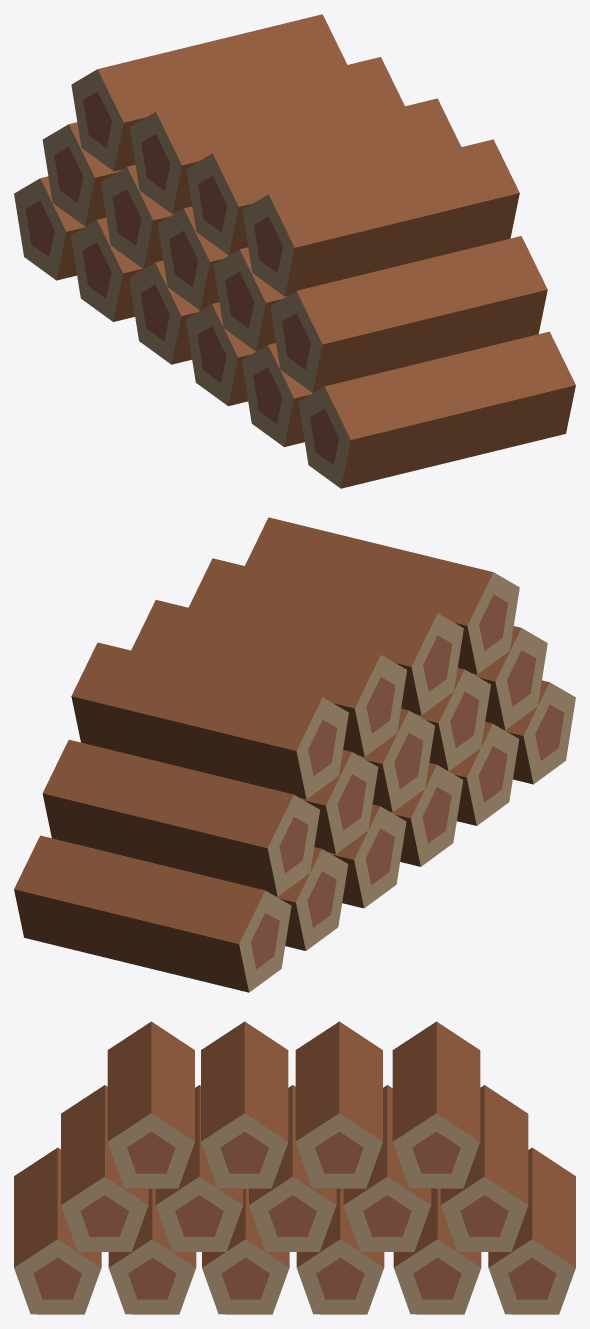
File: TB_Prop_LumberPile_Big_B.FBX
The picture shows the model from 3 angles, top to bottom: view 1: azimuth 30°, elevation 25°; view 2: azimuth 150°, elevation 25°; view 3: azimuth 270°, elevation 25°; orthographic projection. The views are drawn at different scales.
Parts seen in each view (by area): view 1: TB_Prop_LumberPile_Big_B; view 2: TB_Prop_LumberPile_Big_B; view 3: TB_Prop_LumberPile_Big_B.
Part boxes in pixels (left/top/right/bottom): TB_Prop_LumberPile_Big_B: left=14, top=14, right=575, bottom=488; TB_Prop_LumberPile_Big_B: left=14, top=517, right=575, bottom=992; TB_Prop_LumberPile_Big_B: left=14, top=1021, right=575, bottom=1314.
Bounding box in the file's own units: 1.65 × 1.7 × 4.29.
